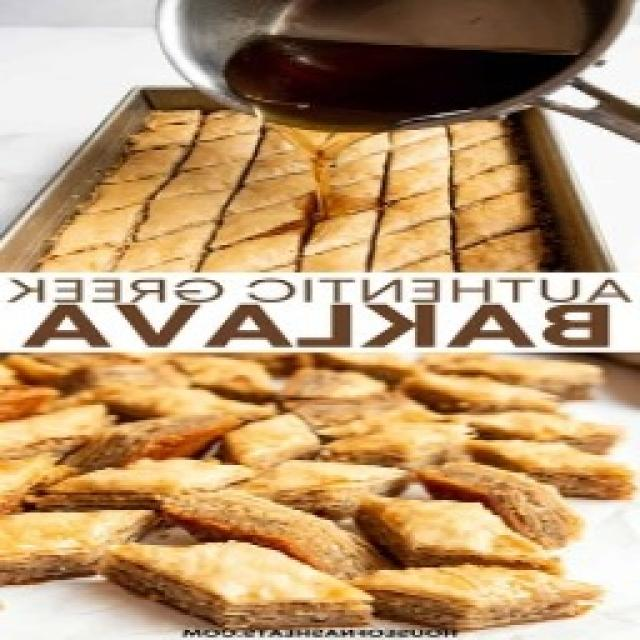Baklawa: (0, 348, 640, 640), (0, 85, 615, 275)
